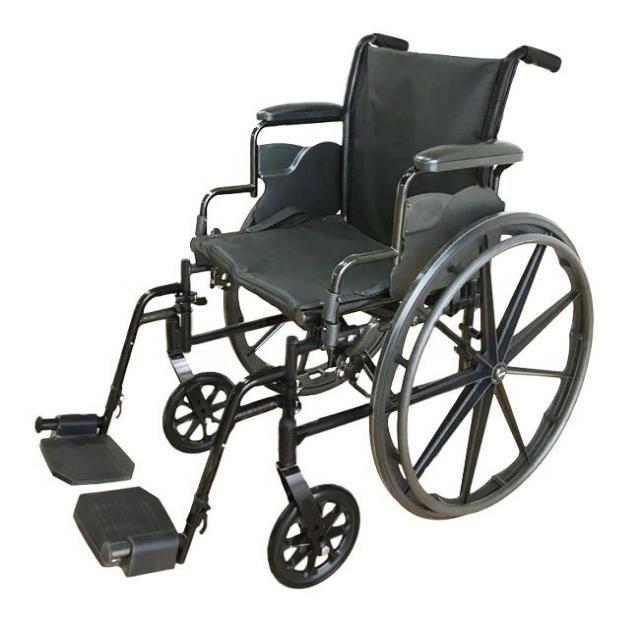wheelchair: (18, 22, 604, 596)
